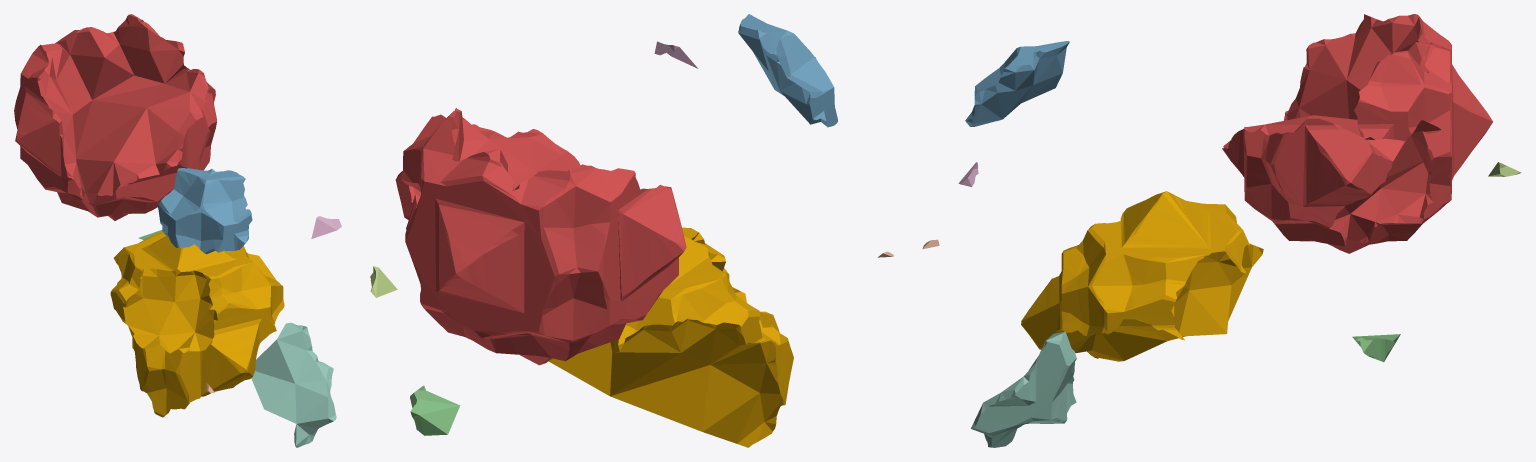
File: fractured_34_8pcs_transformed.glb
3 renders of one model, left to right at view 1: azimuth 30°, elevation 25°; view 2: azimuth 150°, elevation 25°; view 3: azimuth 270°, elevation 25°, orthographic. The views are drawn at different scales.
Visible parts, largest first — view 1: piece_1.obj, piece_0.obj, piece_2.obj, piece_4.obj, piece_6.obj; view 2: piece_1.obj, piece_0.obj, piece_2.obj, piece_3.obj, piece_5.obj; view 3: piece_1.obj, piece_0.obj, piece_4.obj, piece_2.obj, piece_3.obj.
Boxes of the visible parts, x1,y1,x2,y2 form: piece_1.obj: [14, 14, 216, 220]; piece_0.obj: [110, 232, 284, 417]; piece_2.obj: [157, 168, 252, 254]; piece_4.obj: [251, 322, 336, 447]; piece_6.obj: [311, 216, 341, 238]; piece_1.obj: [395, 108, 686, 365]; piece_0.obj: [548, 227, 793, 447]; piece_2.obj: [738, 14, 837, 127]; piece_3.obj: [410, 385, 460, 435]; piece_5.obj: [370, 266, 397, 297]; piece_1.obj: [1222, 14, 1492, 253]; piece_0.obj: [1021, 191, 1263, 361]; piece_4.obj: [971, 331, 1076, 447]; piece_2.obj: [965, 41, 1069, 126]; piece_3.obj: [1352, 334, 1400, 362].
Size of the model in its own units: 0.9951 by 1.48 by 2.07.
